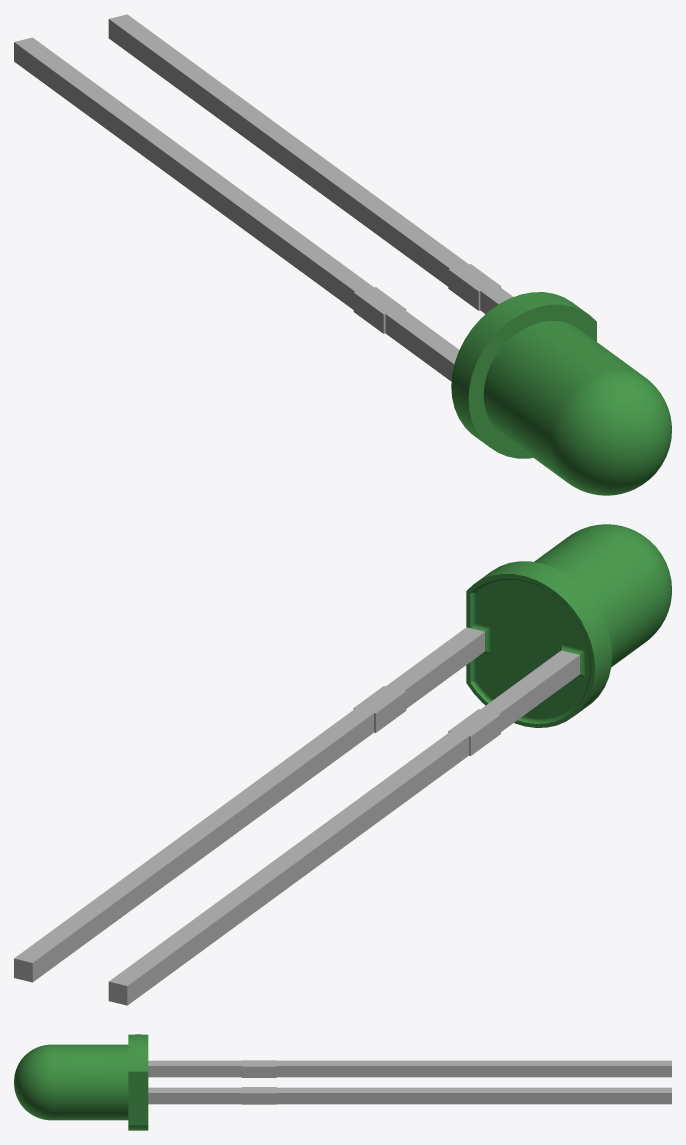
The model's file is LED 3mm Red 21mm Leads v3.fbx.
3 views of the same model, one above another, from view 1: azimuth 30°, elevation 25°; view 2: azimuth 150°, elevation 25°; view 3: azimuth 270°, elevation 25° (orthographic). The views are drawn at different scales.
Parts seen in each view (by area): view 1: Body1 (×3); view 2: Body1 (×3); view 3: Body1 (×3).
Part boxes in pixels (bbox=[...]): Body1 (×3): bbox=[14, 14, 671, 495]; Body1 (×3): bbox=[14, 524, 671, 1005]; Body1 (×3): bbox=[14, 1034, 671, 1130].
Size of the model in its own units: 3.5 by 3.85 by 26.38.
